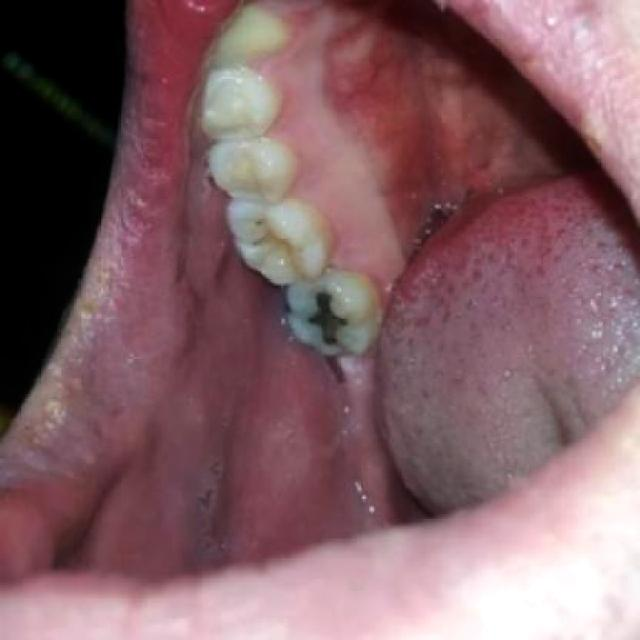Plaque: (250, 233, 271, 253), (253, 215, 270, 229)
